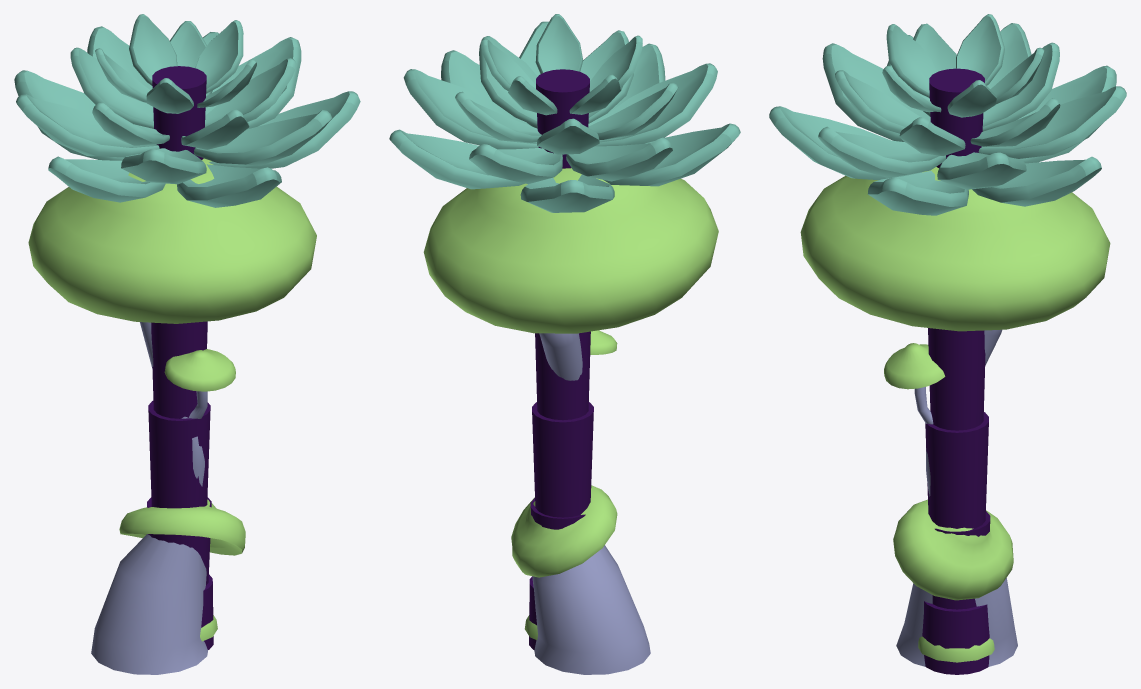
The model's file is environment_Plants1.fbx.
The picture shows the model from 3 angles, left to right: view 1: azimuth 30°, elevation 25°; view 2: azimuth 150°, elevation 25°; view 3: azimuth 270°, elevation 25°; orthographic projection. The views are drawn at different scales.
Visible parts, largest first — view 1: enviroment_SucculentTree1, environment_Mushroom1, environment_Mushroom2; view 2: enviroment_SucculentTree1, environment_Mushroom1, environment_Mushroom2; view 3: enviroment_SucculentTree1, environment_Mushroom1, environment_Mushroom2, environment_Mushroom3.
Part boxes in pixels (x1=…): enviroment_SucculentTree1: x1=14, y1=14, x2=360, y2=649; environment_Mushroom1: x1=28, y1=158, x2=316, y2=674; environment_Mushroom2: x1=119, y1=499, x2=245, y2=555; enviroment_SucculentTree1: x1=389, y1=14, x2=740, y2=649; environment_Mushroom1: x1=423, y1=168, x2=718, y2=674; environment_Mushroom2: x1=511, y1=485, x2=617, y2=577; enviroment_SucculentTree1: x1=769, y1=14, x2=1126, y2=674; environment_Mushroom1: x1=800, y1=167, x2=1110, y2=666; environment_Mushroom2: x1=893, y1=499, x2=1013, y2=600; environment_Mushroom3: x1=918, y1=636, x2=994, y2=662.
Bounding box in the file's own units: 2.53 × 4.79 × 2.52.
